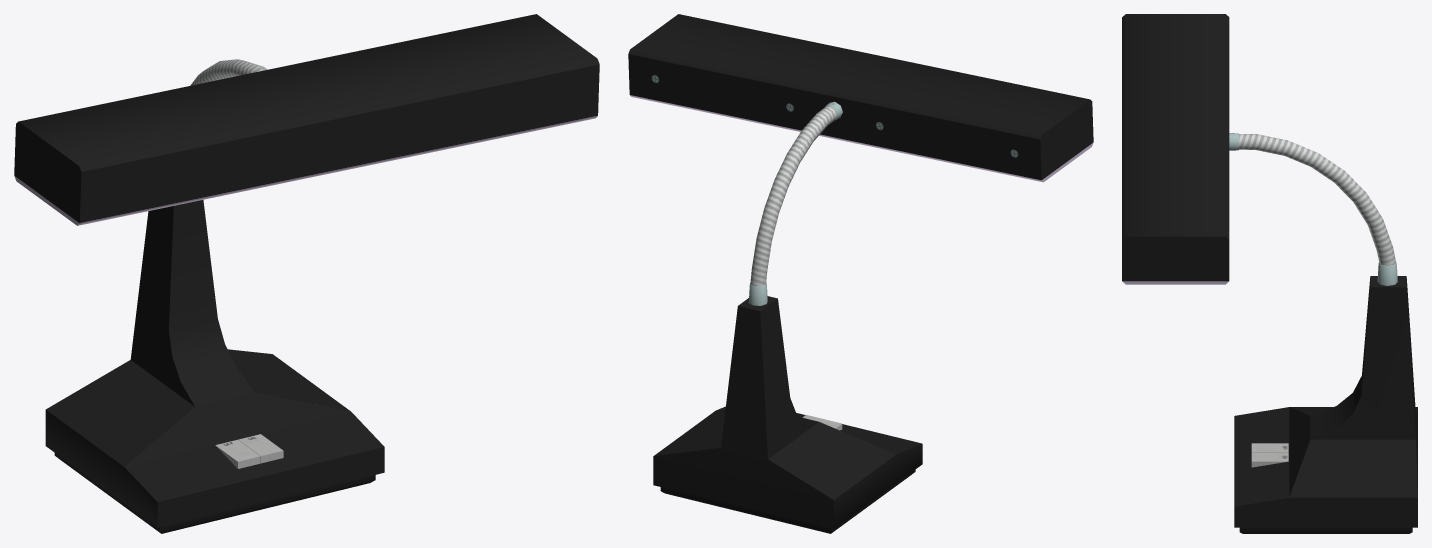
The model's file is DeskLamp.fbx.
The picture shows the model from 3 angles, left to right: view 1: azimuth 30°, elevation 25°; view 2: azimuth 150°, elevation 25°; view 3: azimuth 270°, elevation 25°; orthographic projection. The views are drawn at different scales.
Parts seen in each view (by area): view 1: DeskLamp, Button_Off, Button_On; view 2: DeskLamp; view 3: DeskLamp, Button_On, Button_Off.
Part boxes in pixels (x1,y1,x2,y2): DeskLamp: (14,14,599,533); Button_Off: (215,439,260,468); Button_On: (238,434,283,463); DeskLamp: (628,14,1093,533); DeskLamp: (1122,14,1417,533); Button_On: (1251,452,1288,467); Button_Off: (1251,443,1288,452).
Bounding box in the file's own units: 45.85 × 38.54 × 27.54.
